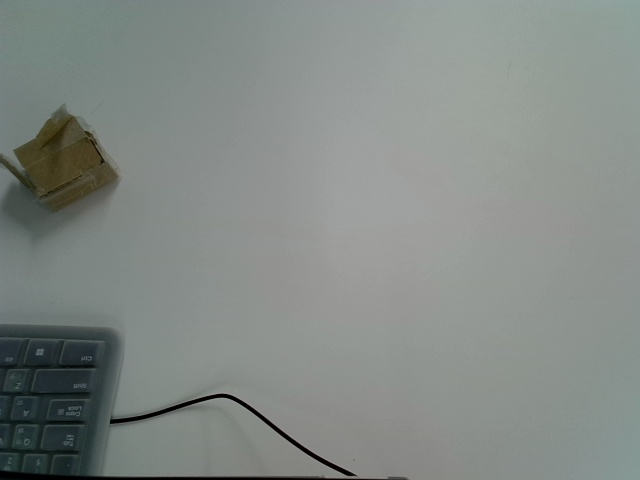defect: (1, 104, 120, 212)
